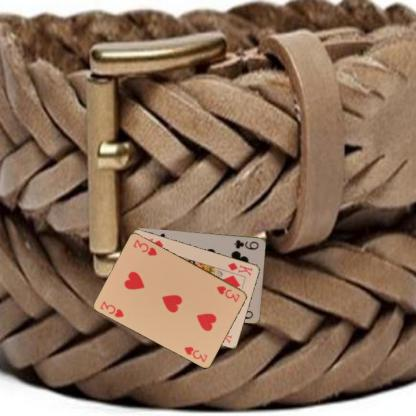3h: (214, 283, 242, 303), (98, 299, 125, 319)
9c: (232, 237, 260, 251)
Kd: (225, 260, 254, 277)
